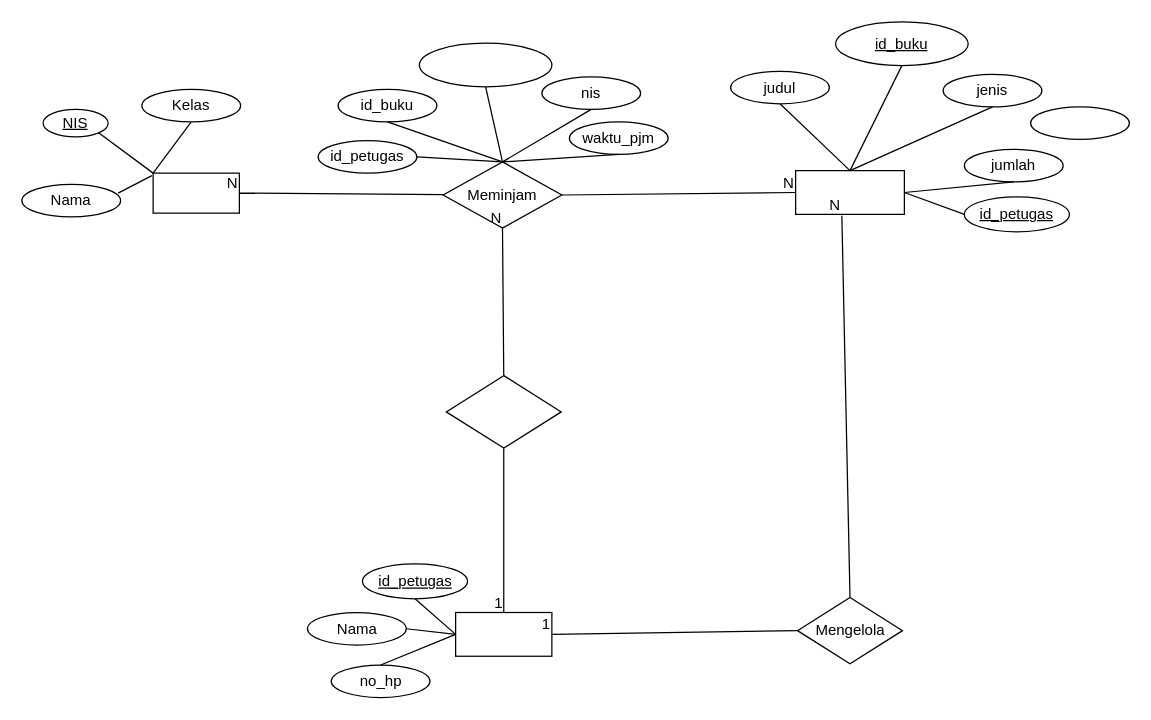
Some shapes in this 1151 by 720 pixel diagram are drawn without their labels. Each missing label, with the centre of its shape:
"Buku" goes at (x=849, y=191).
"id_peminjaman" goes at (x=485, y=64).
"Mengijinkan" goes at (x=503, y=411).
"penerbit" goes at (x=1079, y=122).
"Petugas" goes at (x=503, y=633).
"Siswa" goes at (x=195, y=192).
